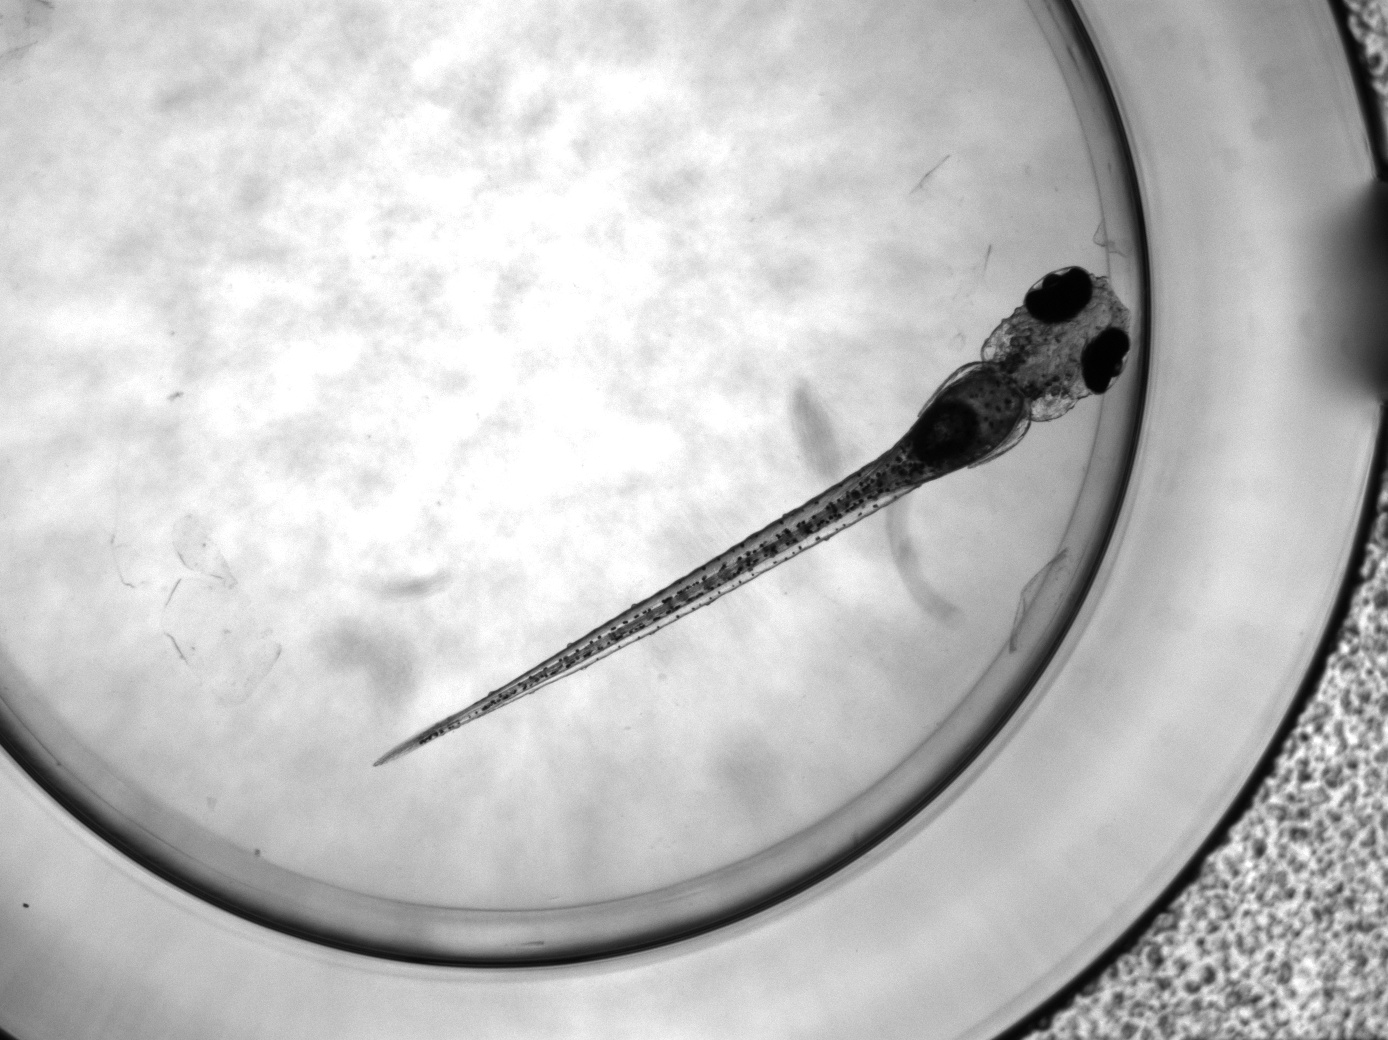embryo: (375, 263, 1136, 766)
eye: (1021, 264, 1093, 322), (1078, 324, 1132, 394)
yolksac: (904, 367, 1035, 472)
